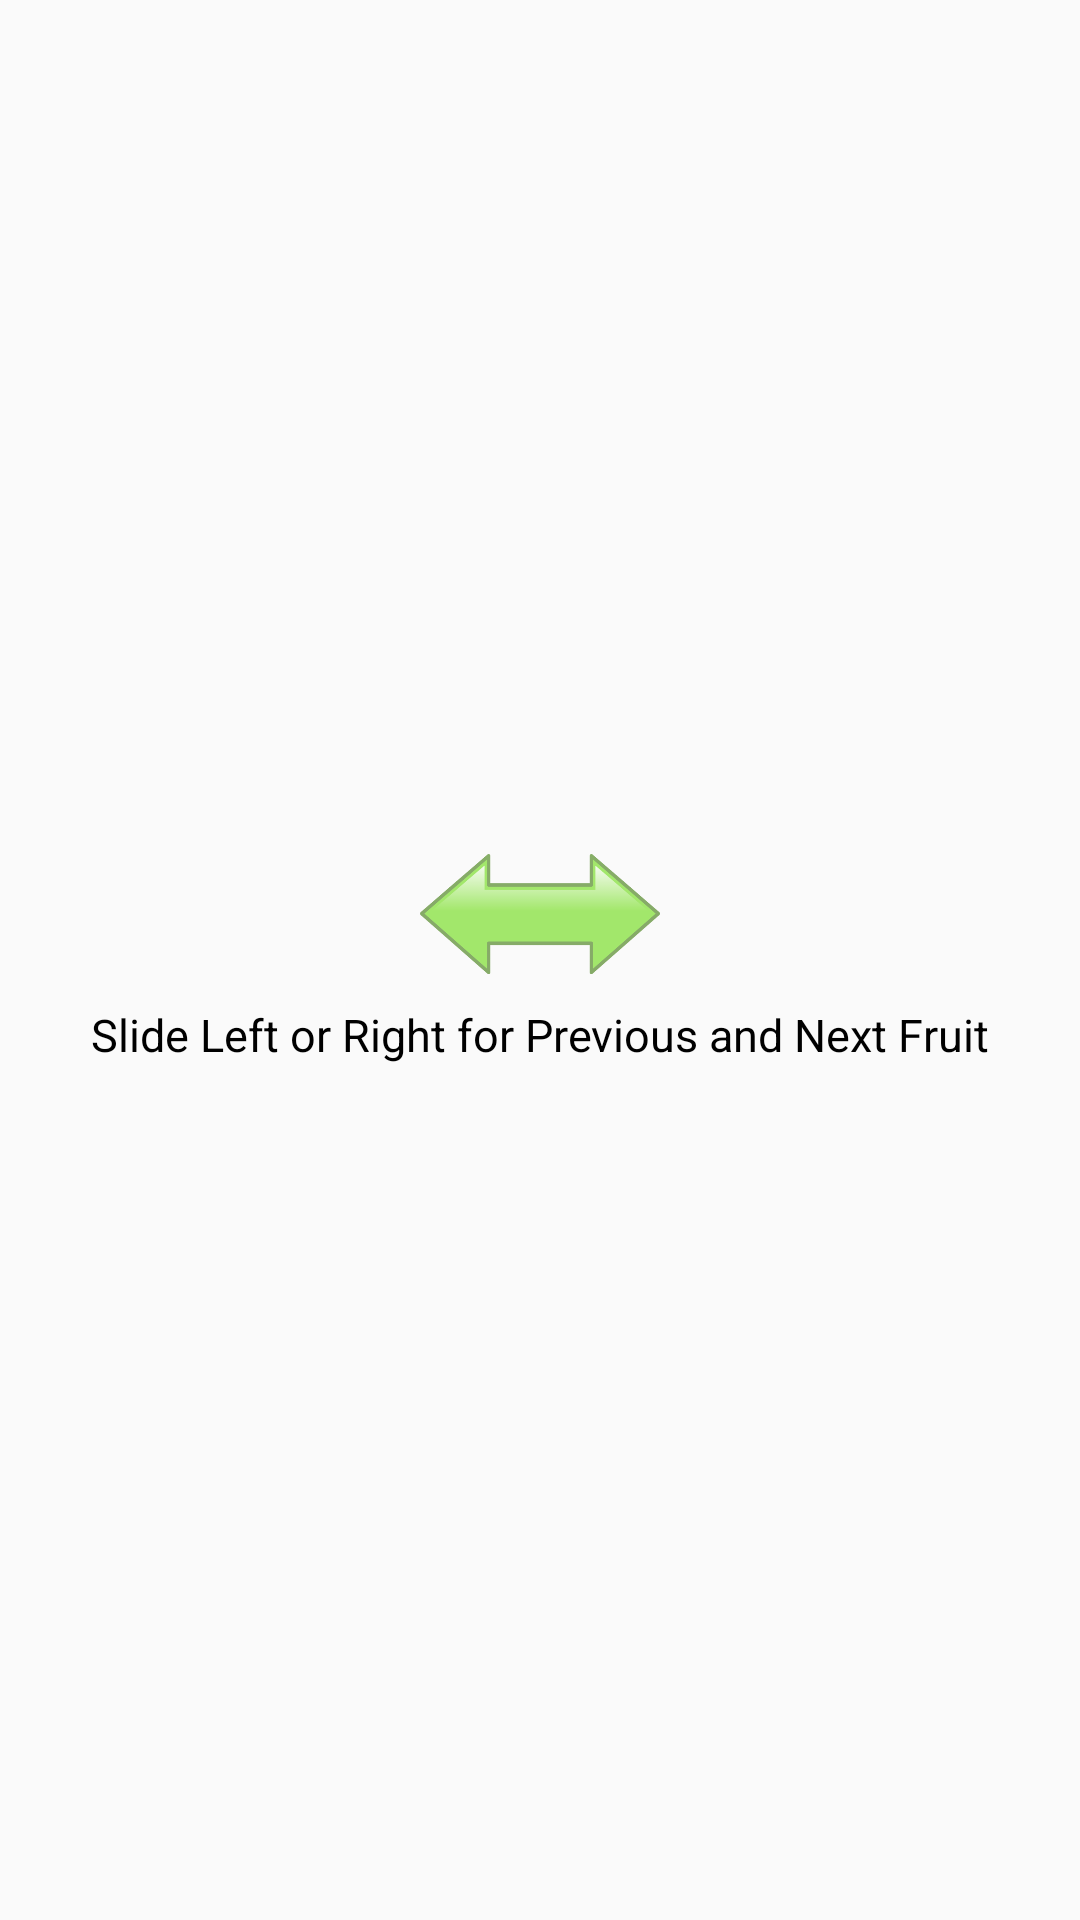

Icon bounding boxes for this 1080x1920 phone screenshot, format [x1, y1, x2, y2]:
double arrow: [420, 854, 660, 974]
